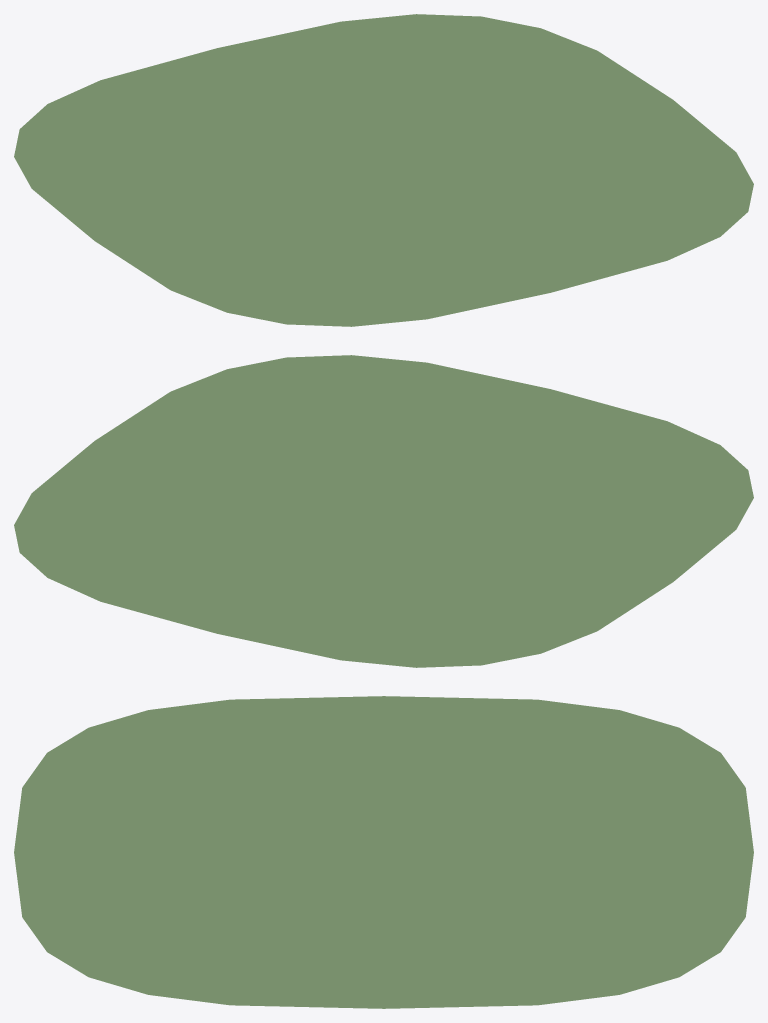
The model's file is Island_Pad_01.glb.
The picture shows the model from 3 angles, top to bottom: view 1: azimuth 30°, elevation 25°; view 2: azimuth 150°, elevation 25°; view 3: azimuth 270°, elevation 25°; orthographic projection. The views are drawn at different scales.
Visible parts, largest first — view 1: Island_Pad_01; view 2: Island_Pad_01; view 3: Island_Pad_01.
Boxes of the visible parts, x1,y1,x2,y2 form: Island_Pad_01: (14, 14, 753, 326); Island_Pad_01: (14, 355, 753, 667); Island_Pad_01: (14, 696, 753, 1008).
Bounding box in the file's own units: 92 × 1 × 92.
